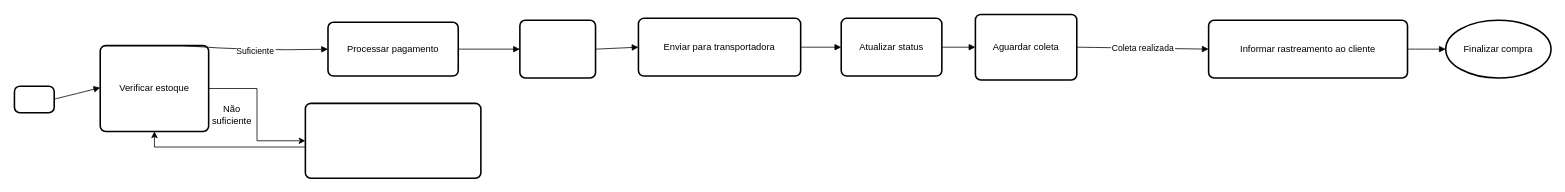
Image size: 1565x192. Some labels were removed from this diagram. Each missing label, with the centre of its shape:
Embalagem: pixel 557 48
Informar cliente sobre atraso: pixel 392 140
Start: pixel 34 99
